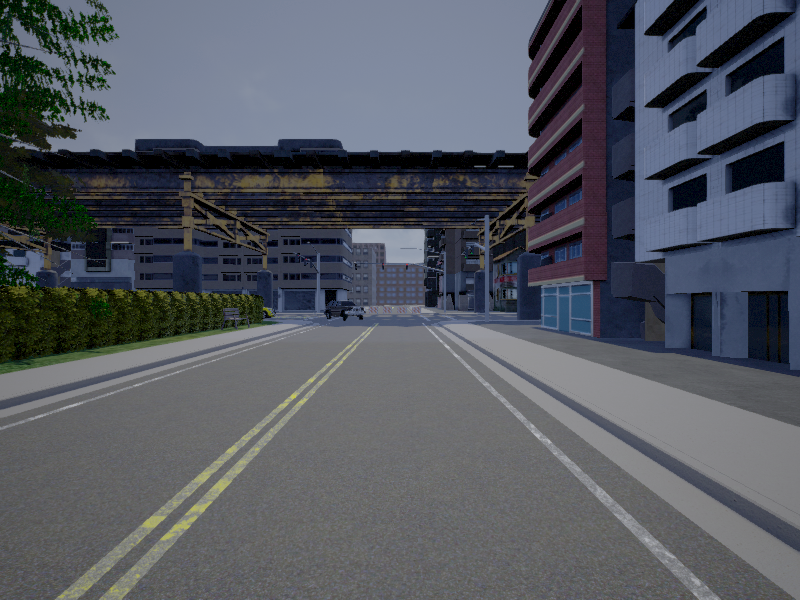Benign: (324, 300, 367, 323)
